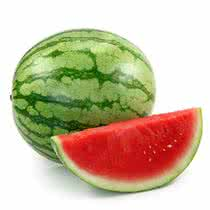watermelon: (9, 29, 159, 163)
